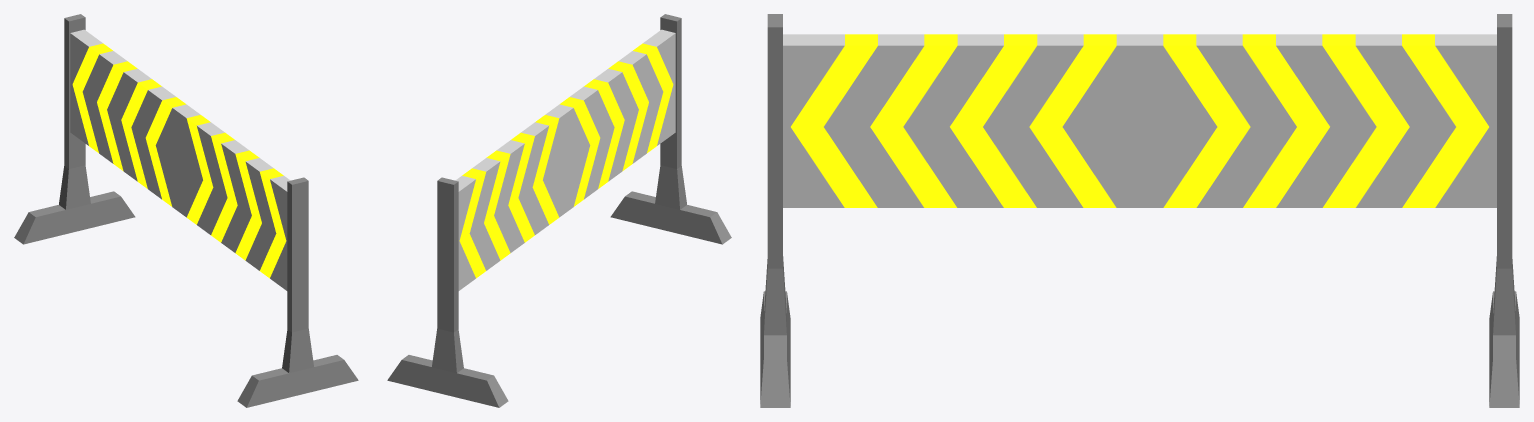
File: ZAGR1.fbx
3 views of the same model, side by side, from view 1: azimuth 30°, elevation 25°; view 2: azimuth 150°, elevation 25°; view 3: azimuth 270°, elevation 25° (orthographic). The views are drawn at different scales.
Visible parts, largest first — view 1: Плоскость.002; view 2: Плоскость.002; view 3: Плоскость.002.
Boxes of the visible parts, x1,y1,x2,y2 form: Плоскость.002: (14, 14, 358, 407); Плоскость.002: (387, 14, 731, 407); Плоскость.002: (760, 14, 1519, 407).
Bounding box in the file's own units: 23.65 × 42.21 × 84.82.
